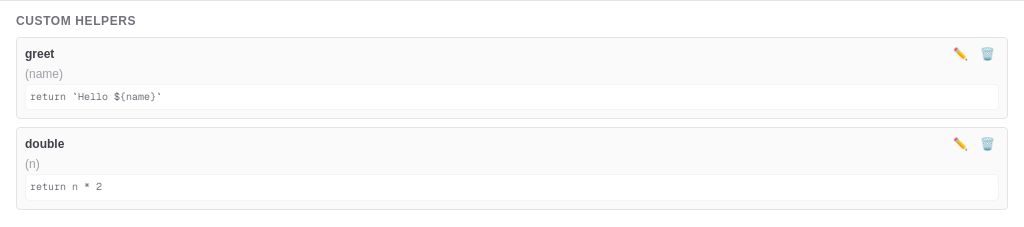
Scenario: HelperPanel › deletes a helper when delete button is clicked
Expected: the text "greet" is shown, [25, 46, 54, 62]
Expected: the text "double" is shown, [25, 136, 64, 152]
Click the button with test id "delete-helper-greet".
click(988, 54)  # box [976, 46, 999, 62]
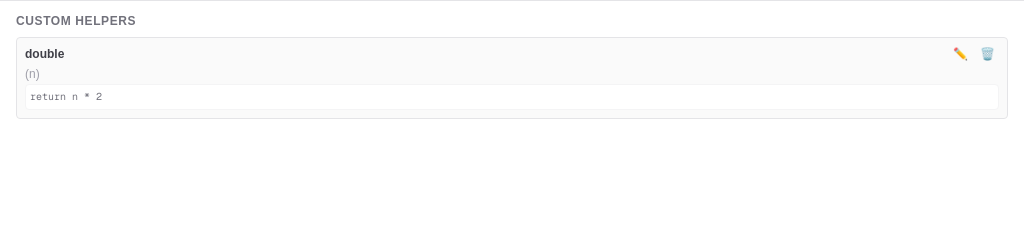
Expected: the text "double" is shown, [25, 46, 64, 62]
Now the text "greet" is gone
